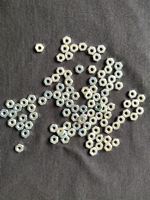nut: (5, 100, 15, 109), (21, 129, 30, 139), (61, 44, 70, 53), (97, 45, 106, 54), (93, 53, 102, 62), (51, 74, 60, 83), (38, 97, 47, 106), (13, 104, 22, 113), (8, 110, 17, 119), (27, 104, 36, 113), (29, 112, 38, 121), (19, 114, 28, 123), (16, 122, 25, 131), (25, 121, 34, 130), (95, 103, 104, 112), (15, 144, 24, 153), (112, 122, 121, 131), (89, 117, 98, 126), (83, 122, 92, 131), (92, 126, 101, 135), (51, 135, 59, 145), (35, 44, 44, 52), (63, 36, 71, 45), (70, 44, 78, 53), (88, 47, 97, 55), (65, 52, 73, 61), (57, 54, 65, 63), (44, 78, 53, 86), (64, 70, 73, 78), (76, 65, 84, 74), (88, 66, 97, 74), (106, 58, 115, 66), (114, 62, 123, 70), (104, 66, 113, 74), (108, 75, 116, 84), (64, 78, 73, 86), (56, 84, 65, 92), (53, 91, 61, 100), (44, 91, 53, 99), (27, 95, 36, 103), (20, 99, 28, 108), (1, 109, 9, 118), (89, 77, 98, 85), (99, 79, 108, 87), (106, 83, 114, 92), (115, 82, 124, 90), (66, 86, 74, 95), (62, 92, 70, 101), (82, 87, 91, 95), (93, 93, 101, 102), (101, 89, 109, 98), (56, 99, 65, 107), (71, 105, 80, 113), (80, 105, 88, 114), (87, 100, 96, 108), (100, 119, 109, 127), (105, 126, 113, 135), (117, 116, 126, 124), (130, 113, 139, 121), (136, 107, 145, 115), (137, 95, 146, 103), (129, 90, 137, 99), (96, 112, 104, 121), (78, 116, 86, 125), (71, 114, 80, 122), (73, 122, 81, 131), (79, 128, 87, 137), (63, 122, 71, 131), (68, 128, 76, 137), (50, 124, 58, 133), (57, 128, 66, 136), (60, 131, 68, 140), (61, 136, 70, 144), (88, 133, 96, 142), (96, 135, 105, 143), (86, 140, 94, 149), (90, 148, 98, 157), (95, 143, 104, 151), (104, 144, 113, 152), (79, 43, 87, 51), (98, 70, 106, 78), (115, 71, 123, 79), (8, 119, 16, 127), (72, 92, 80, 100), (90, 86, 98, 94), (85, 92, 93, 100), (66, 100, 74, 108), (63, 109, 71, 117), (100, 97, 108, 105), (100, 105, 108, 113), (108, 103, 116, 111), (104, 111, 112, 119), (123, 110, 131, 118), (124, 100, 132, 108), (132, 100, 140, 108), (104, 136, 112, 144), (112, 139, 120, 147), (56, 68, 65, 75), (88, 109, 95, 118), (80, 114, 88, 121)
